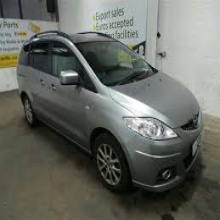no damage: (17, 31, 202, 193)
